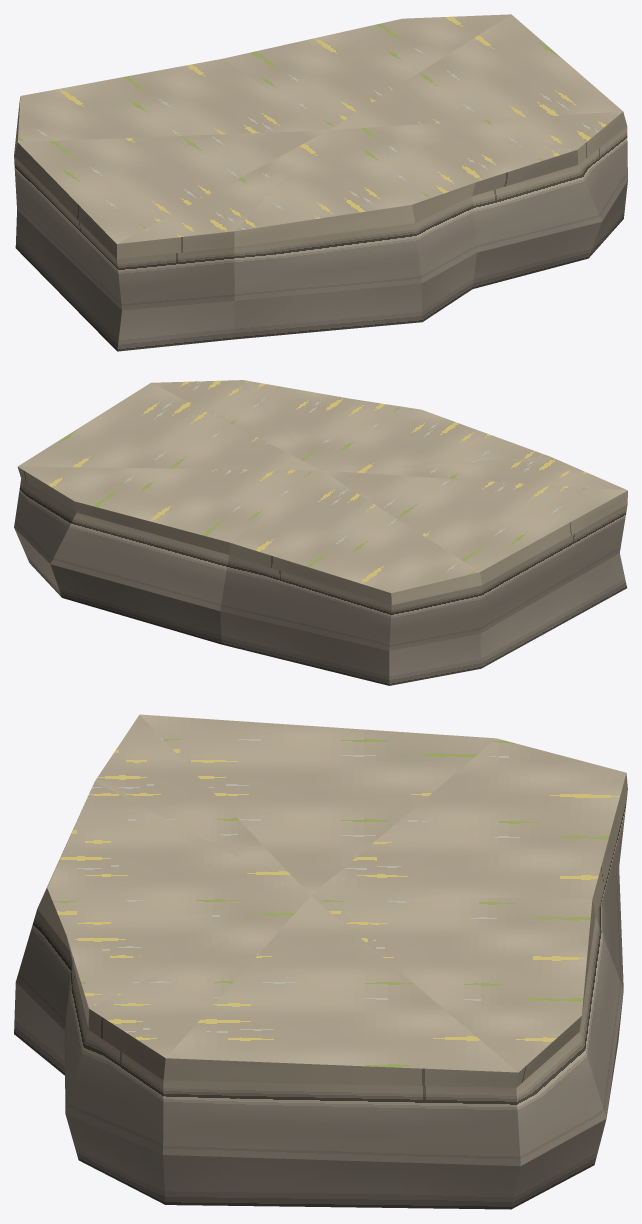
File: p_bi_ledge.glb
The picture shows the model from 3 angles, top to bottom: view 1: azimuth 30°, elevation 25°; view 2: azimuth 150°, elevation 25°; view 3: azimuth 270°, elevation 25°; orthographic projection. The views are drawn at different scales.
Parts seen in each view (by area): view 1: p_bi_ledge_lod0; view 2: p_bi_ledge_lod0; view 3: p_bi_ledge_lod0.
Boxes of the visible parts, <box> form: p_bi_ledge_lod0: <box>14,14,627,351</box>; p_bi_ledge_lod0: <box>14,380,627,685</box>; p_bi_ledge_lod0: <box>14,714,627,1209</box>.
Size of what is drawn, in the model's own units: 8.8 by 1.7 by 6.39.
Materials: 1 (1 with a texture image).
